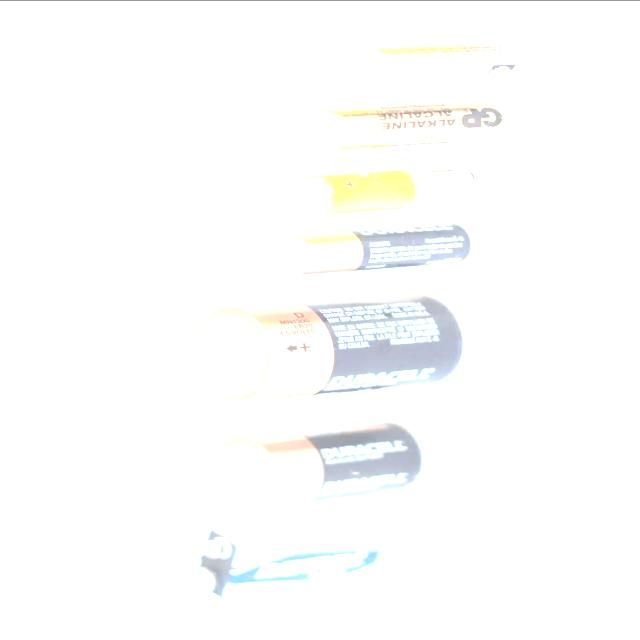AA: (271, 217, 475, 277), (306, 96, 514, 152), (295, 160, 499, 217), (353, 38, 533, 79)
